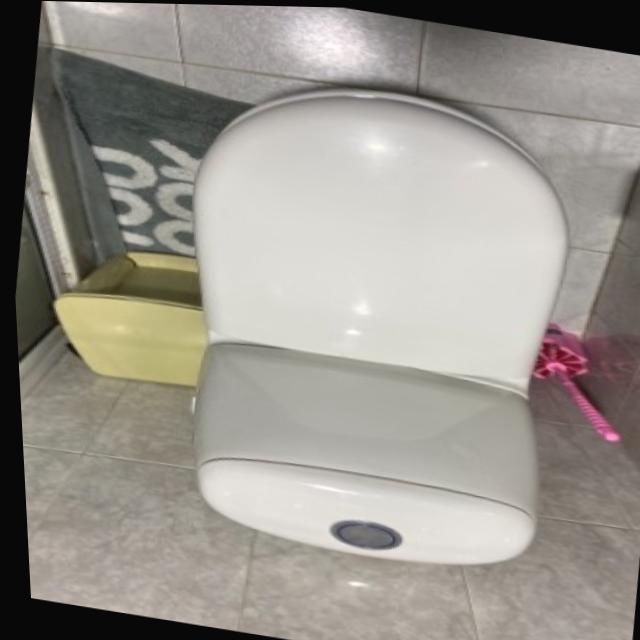toilet: (139, 59, 600, 586)
